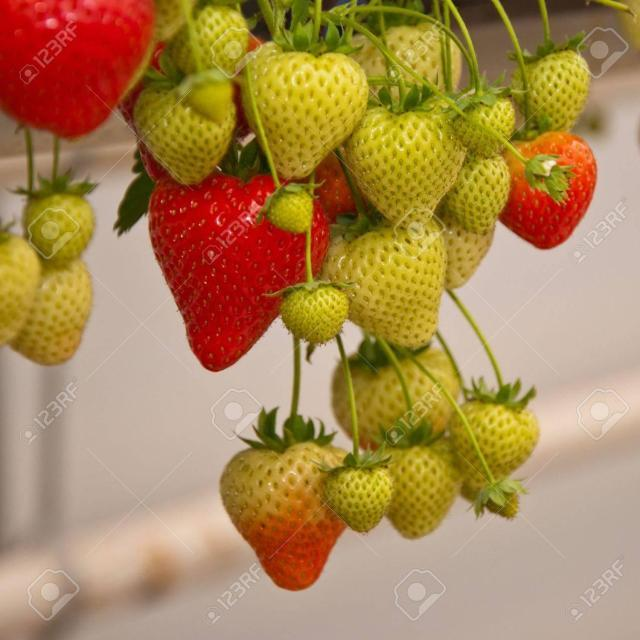Strawberry: (148, 168, 332, 372), (0, 0, 154, 143), (222, 437, 354, 592), (247, 47, 369, 179), (326, 220, 444, 346), (329, 340, 464, 449), (346, 103, 466, 225), (496, 129, 598, 249), (134, 80, 236, 188), (352, 21, 466, 107), (6, 258, 96, 366), (375, 440, 463, 540), (452, 396, 540, 494), (153, 0, 249, 79), (512, 49, 590, 132), (24, 186, 96, 264), (324, 462, 395, 532), (431, 215, 492, 296), (0, 239, 40, 349), (456, 88, 516, 156), (284, 284, 349, 344), (268, 185, 314, 233)
